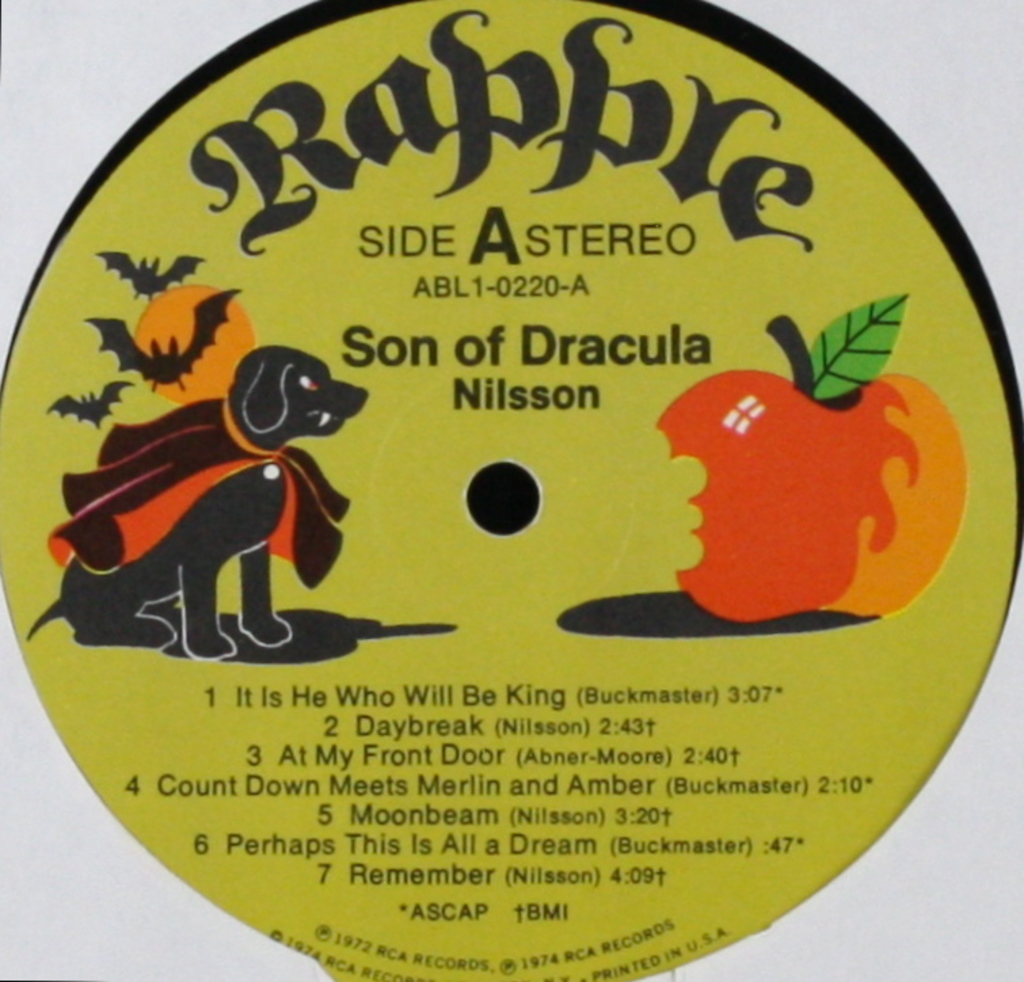Apple: (653, 309, 920, 623)
